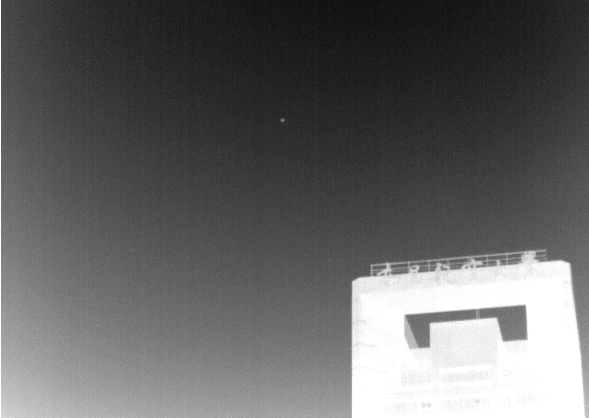dim target: (279, 117, 286, 123)
